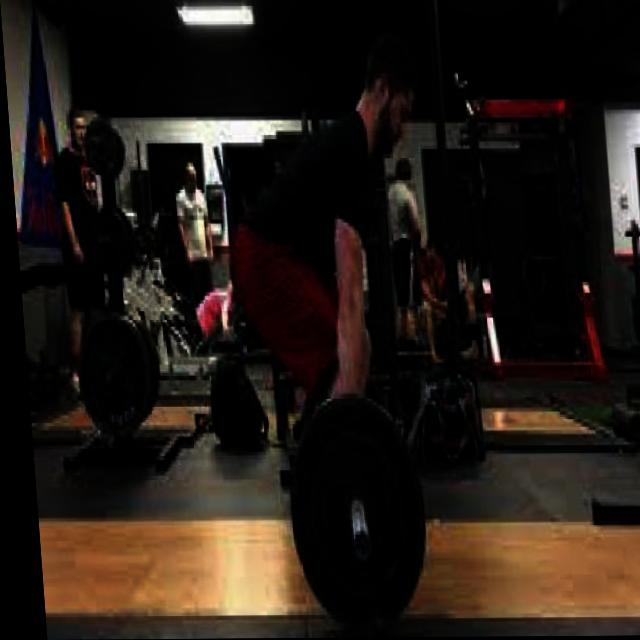barbell: (275, 391, 431, 639)
